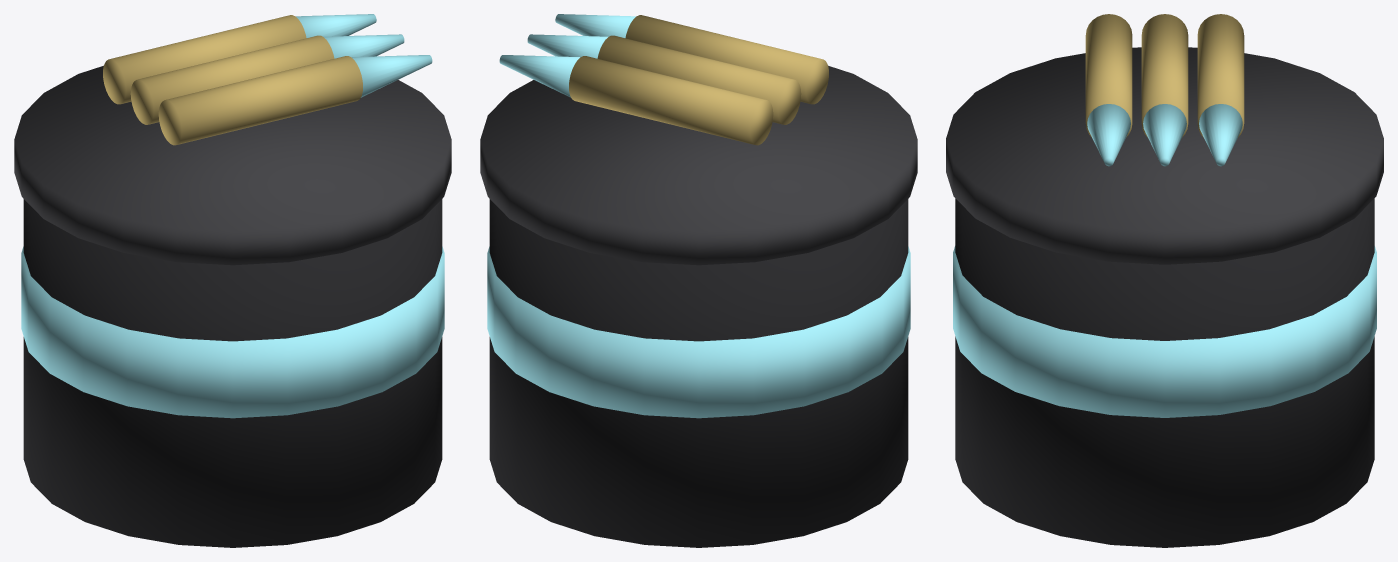
File: SM_AmmoShock.glb
3 renders of one model, left to right at view 1: azimuth 30°, elevation 25°; view 2: azimuth 150°, elevation 25°; view 3: azimuth 270°, elevation 25°, orthographic.
Visible parts, largest first — view 1: SM_AmmoShock; view 2: SM_AmmoShock; view 3: SM_AmmoShock.
Boxes of the visible parts, x1,y1,x2,y2 form: SM_AmmoShock: (14,14,451,547); SM_AmmoShock: (480,14,917,547); SM_AmmoShock: (946,14,1383,547).
Bounding box in the file's own units: 0.094 × 0.095 × 0.094.
